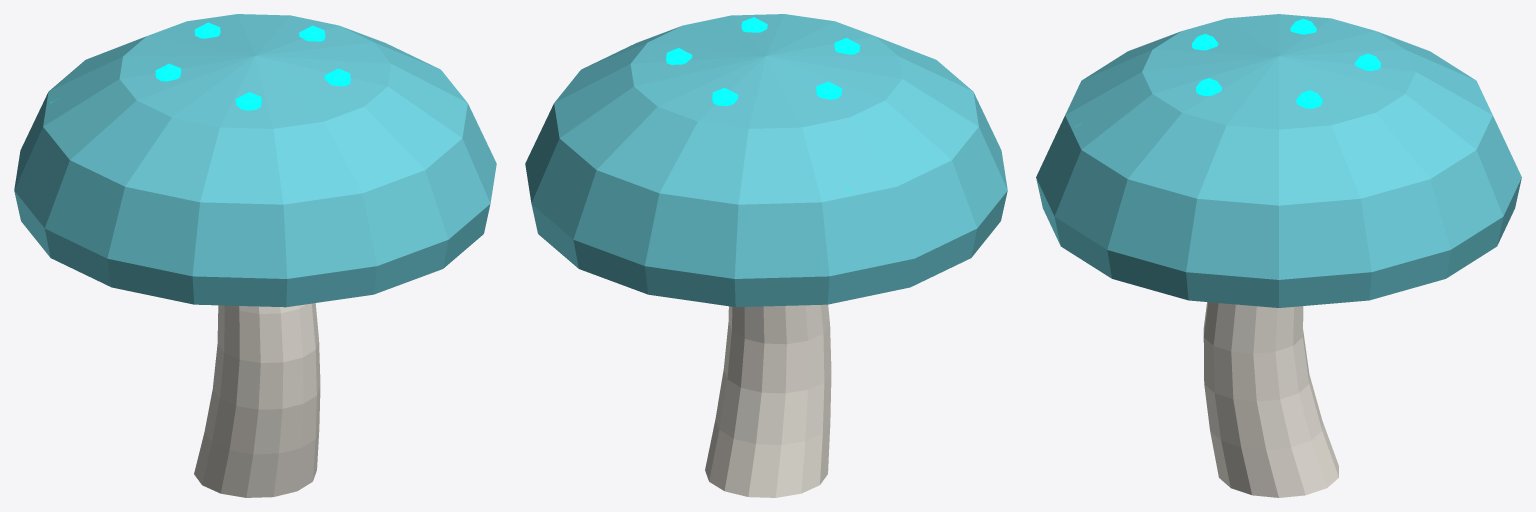
File: XylophoneMushroom.fbx
3 views of the same model, side by side, from view 1: azimuth 30°, elevation 25°; view 2: azimuth 150°, elevation 25°; view 3: azimuth 270°, elevation 25° (orthographic).
Visible parts, largest first — view 1: Mushroom_Cap, Mushroom_Stem, Mushroom_Glow_Spots; view 2: Mushroom_Cap, Mushroom_Stem, Mushroom_Glow_Spots; view 3: Mushroom_Cap, Mushroom_Stem, Mushroom_Glow_Spots.
Boxes of the visible parts, x1,y1,x2,y2 form: Mushroom_Cap: [14, 14, 496, 307]; Mushroom_Stem: [194, 303, 320, 497]; Mushroom_Glow_Spots: [50, 22, 386, 179]; Mushroom_Cap: [525, 14, 1007, 307]; Mushroom_Stem: [705, 304, 831, 497]; Mushroom_Glow_Spots: [666, 17, 860, 192]; Mushroom_Cap: [1036, 14, 1521, 307]; Mushroom_Stem: [1203, 302, 1338, 497]; Mushroom_Glow_Spots: [1075, 18, 1380, 127].
Size of the model in its own units: 0.284 by 0.269 by 0.284.
